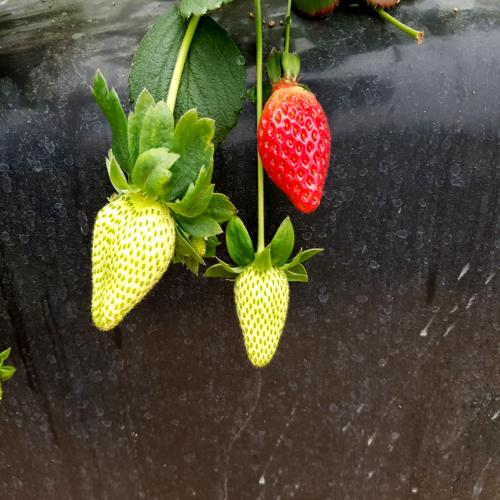ripe: (258, 76, 336, 219)
unripe: (93, 174, 180, 345), (236, 258, 294, 370)
